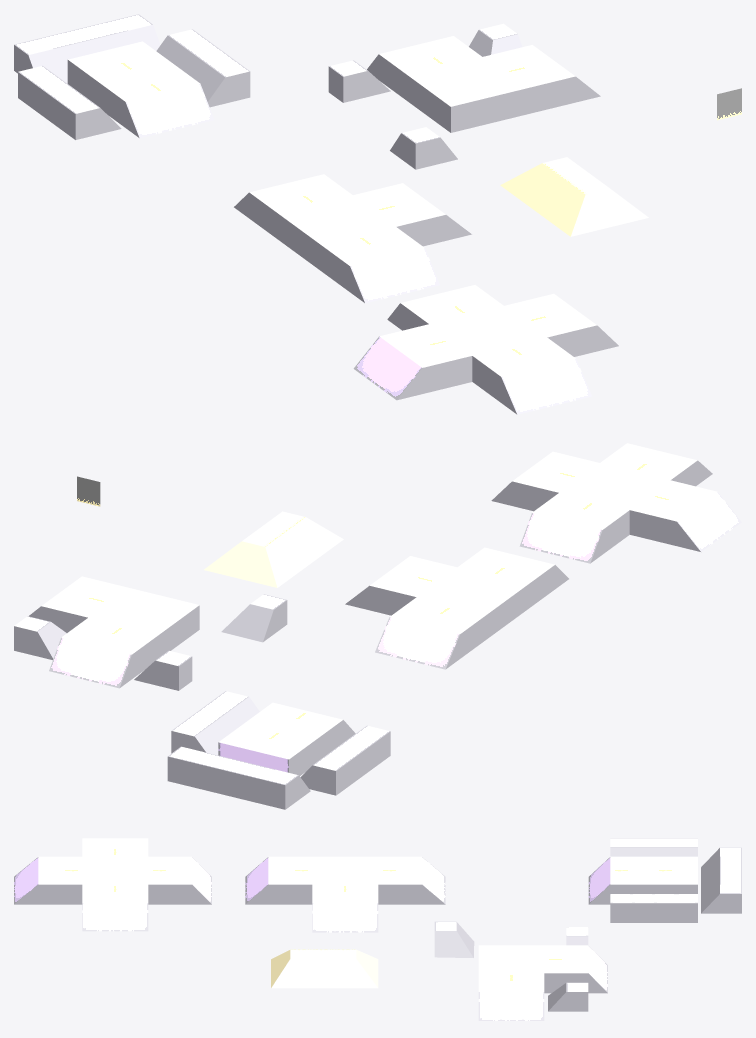
File: Road.glb
3 views of the same model, one above another, from view 1: azimuth 30°, elevation 25°; view 2: azimuth 150°, elevation 25°; view 3: azimuth 270°, elevation 25° (orthographic). The views are drawn at different scales.
Parts seen in each view (by area): view 1: Cube.011, Cube.010, Cube.006, Cube.002, Cube.013, Cube.008, Cube.005, Cube.004, Cube.012, Cube.009, Cube.007, Cube.001; view 2: Cube.011, Cube.010, Cube.006, Cube.002, Cube.013, Cube.008, Cube.004, Cube.005, Cube.012, Cube.007, Cube.009, Cube.001; view 3: Cube.011, Cube.010, Cube.006, Cube.002, Cube.013, Cube.008, Cube.005, Cube.004, Cube.012, Cube.007, Cube.009.
Part boxes in pixels (bbox=[...]): Cube.011: bbox=[353, 285, 618, 414]; Cube.010: bbox=[234, 174, 471, 303]; Cube.006: bbox=[367, 36, 600, 132]; Cube.002: bbox=[67, 41, 214, 138]; Cube.013: bbox=[500, 157, 648, 236]; Cube.008: bbox=[14, 14, 160, 83]; Cube.005: bbox=[156, 29, 250, 107]; Cube.004: bbox=[18, 65, 121, 139]; Cube.012: bbox=[390, 127, 457, 169]; Cube.009: bbox=[328, 60, 390, 102]; Cube.007: bbox=[469, 23, 522, 56]; Cube.001: bbox=[717, 88, 741, 120]; Cube.011: bbox=[491, 443, 741, 563]; Cube.010: bbox=[345, 547, 568, 669]; Cube.006: bbox=[29, 576, 199, 688]; Cube.002: bbox=[218, 702, 355, 775]; Cube.013: bbox=[204, 511, 343, 587]; Cube.008: bbox=[167, 746, 310, 809]; Cube.004: bbox=[300, 725, 390, 795]; Cube.005: bbox=[171, 691, 259, 755]; Cube.012: bbox=[221, 594, 287, 642]; Cube.007: bbox=[14, 616, 66, 659]; Cube.009: bbox=[134, 650, 192, 690]; Cube.001: bbox=[77, 476, 100, 506]; Cube.011: bbox=[14, 838, 211, 931]; Cube.010: bbox=[245, 856, 445, 932]; Cube.006: bbox=[478, 945, 607, 1020]; Cube.002: bbox=[588, 856, 697, 904]; Cube.013: bbox=[271, 949, 378, 988]; Cube.008: bbox=[701, 847, 741, 913]; Cube.005: bbox=[610, 894, 697, 922]; Cube.004: bbox=[610, 838, 697, 856]; Cube.012: bbox=[434, 921, 474, 957]; Cube.007: bbox=[548, 982, 588, 1011]; Cube.009: bbox=[566, 927, 588, 945].
Bounding box in the file's own units: 13.14 × 1.25 × 20.73.
